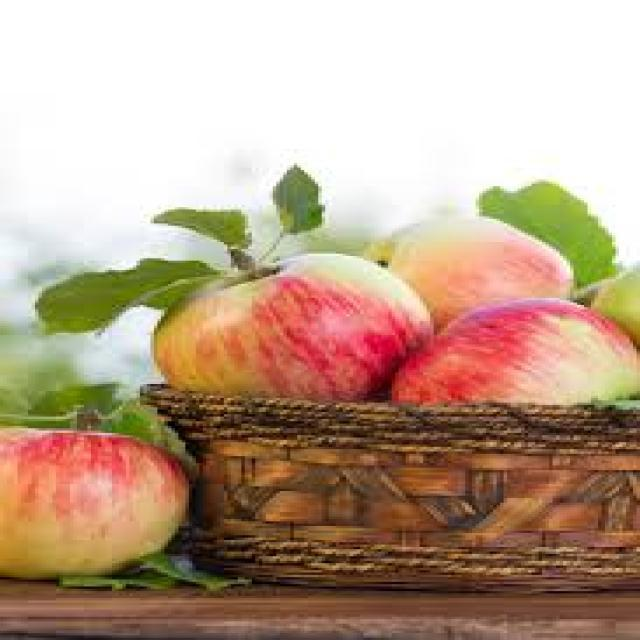Apple: (151, 249, 427, 406), (0, 424, 187, 581), (382, 297, 634, 408), (368, 215, 570, 331)
